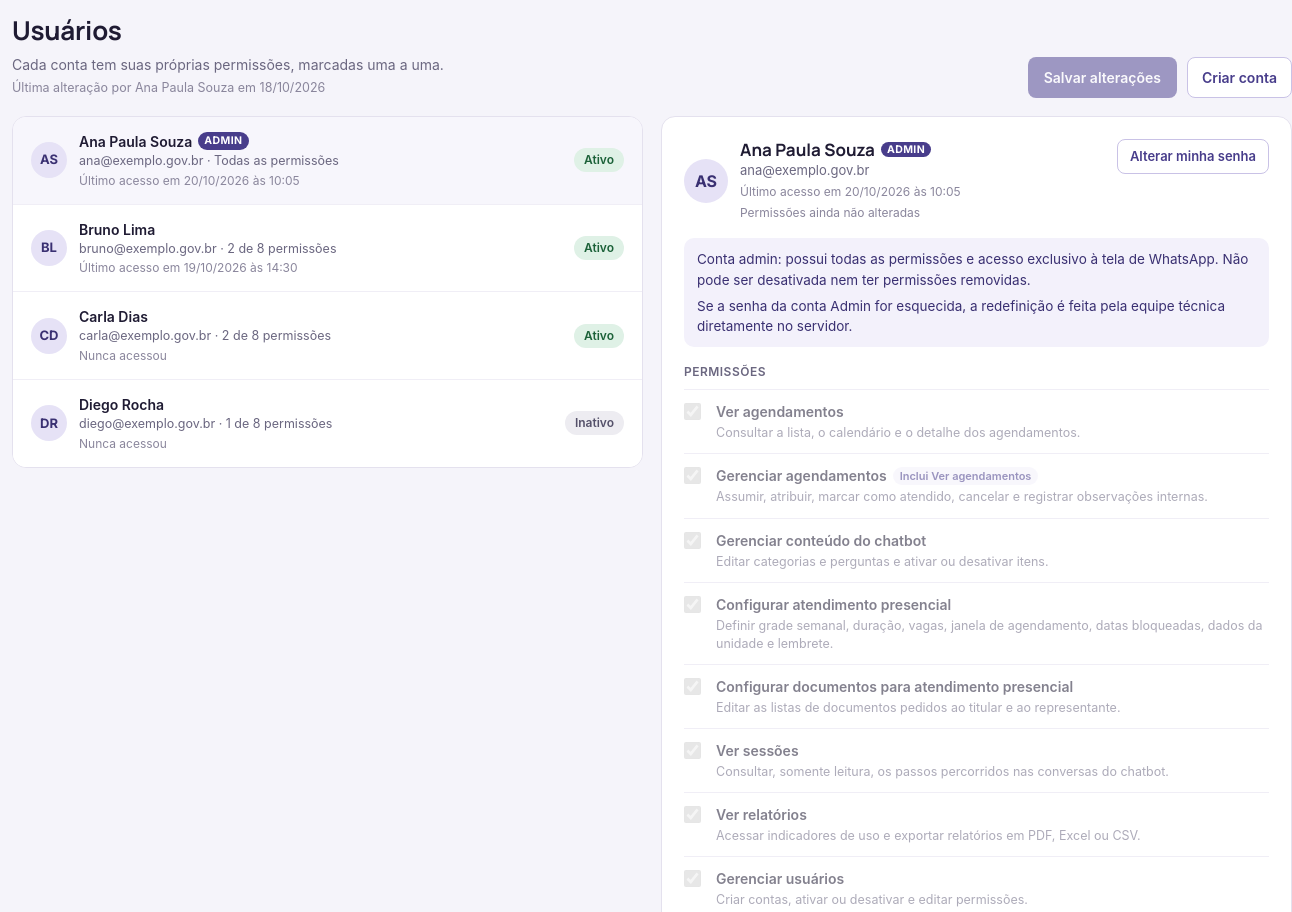
Test case: UsersPage salvar em lote › lista conceder, remover, desativar e reativar na barra
Expected: the list named "Contas" is shown, [12,116,643,468]
Step 1. Click the button "Carla Dias" → click(328, 336), box [13,292,642,380]
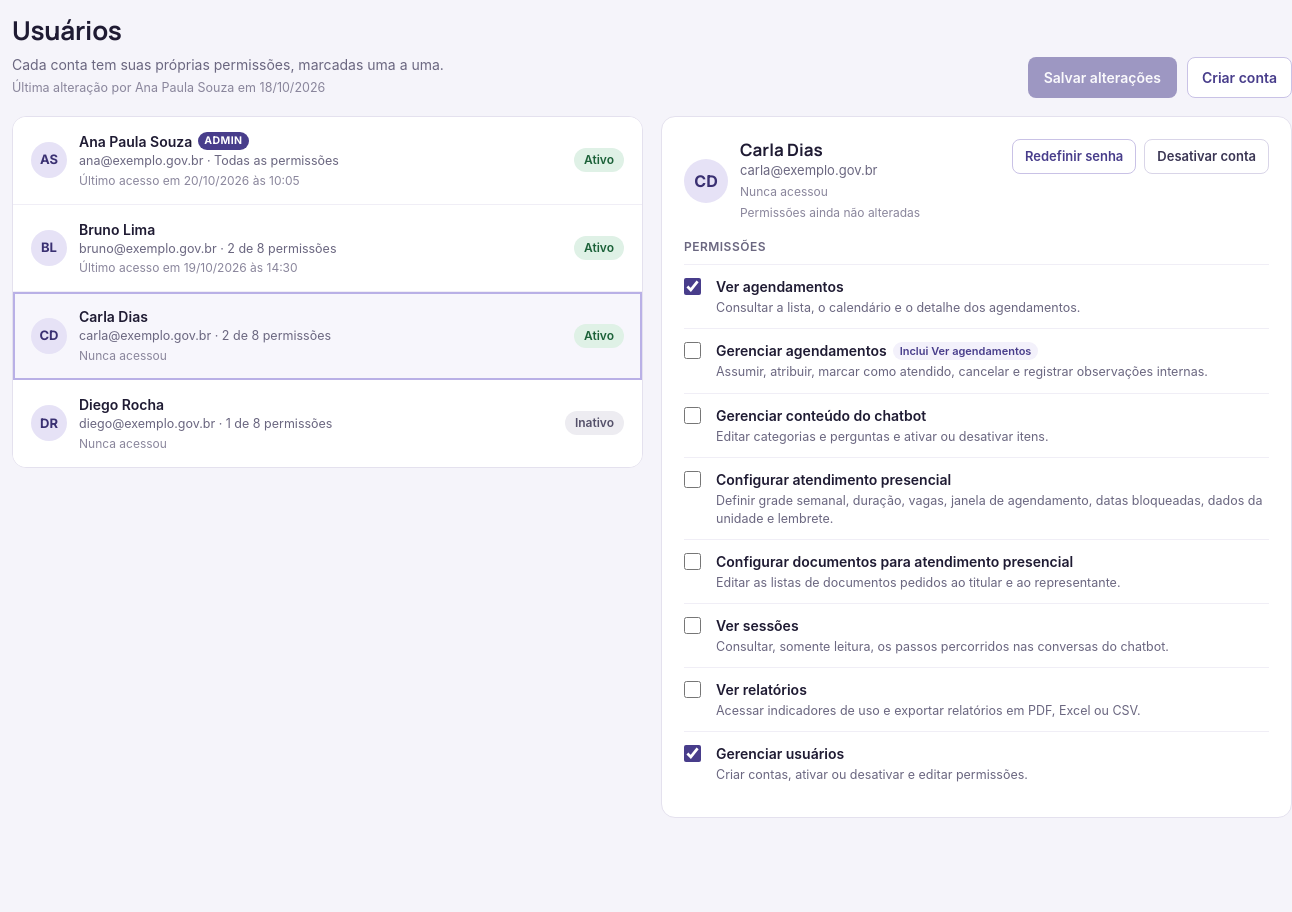
Step 2. Click the 8th checkbox → click(692, 754), box [684,745,701,762]
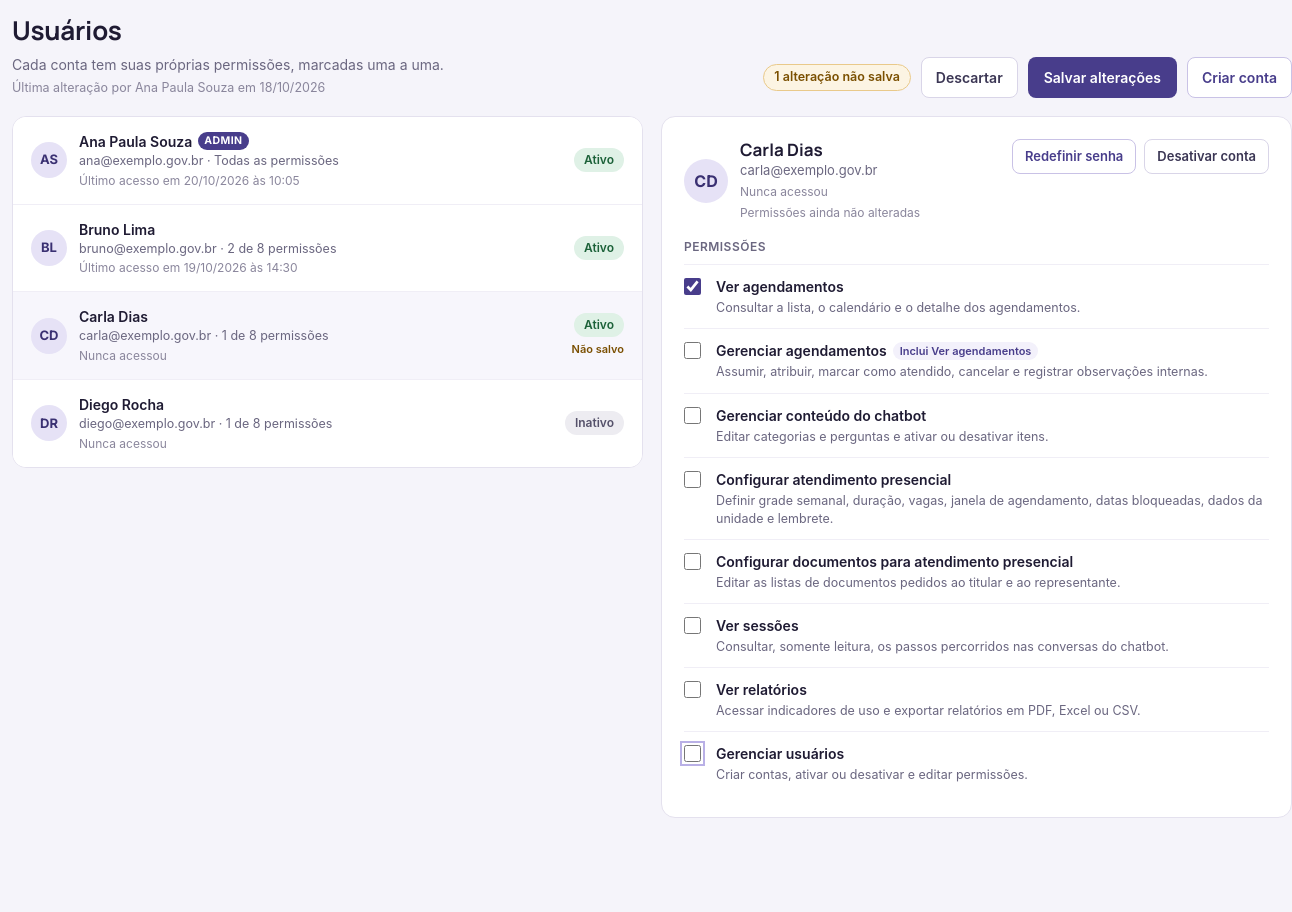
Step 3. Click the button "Diego Rocha" → click(328, 423), box [13,380,642,467]
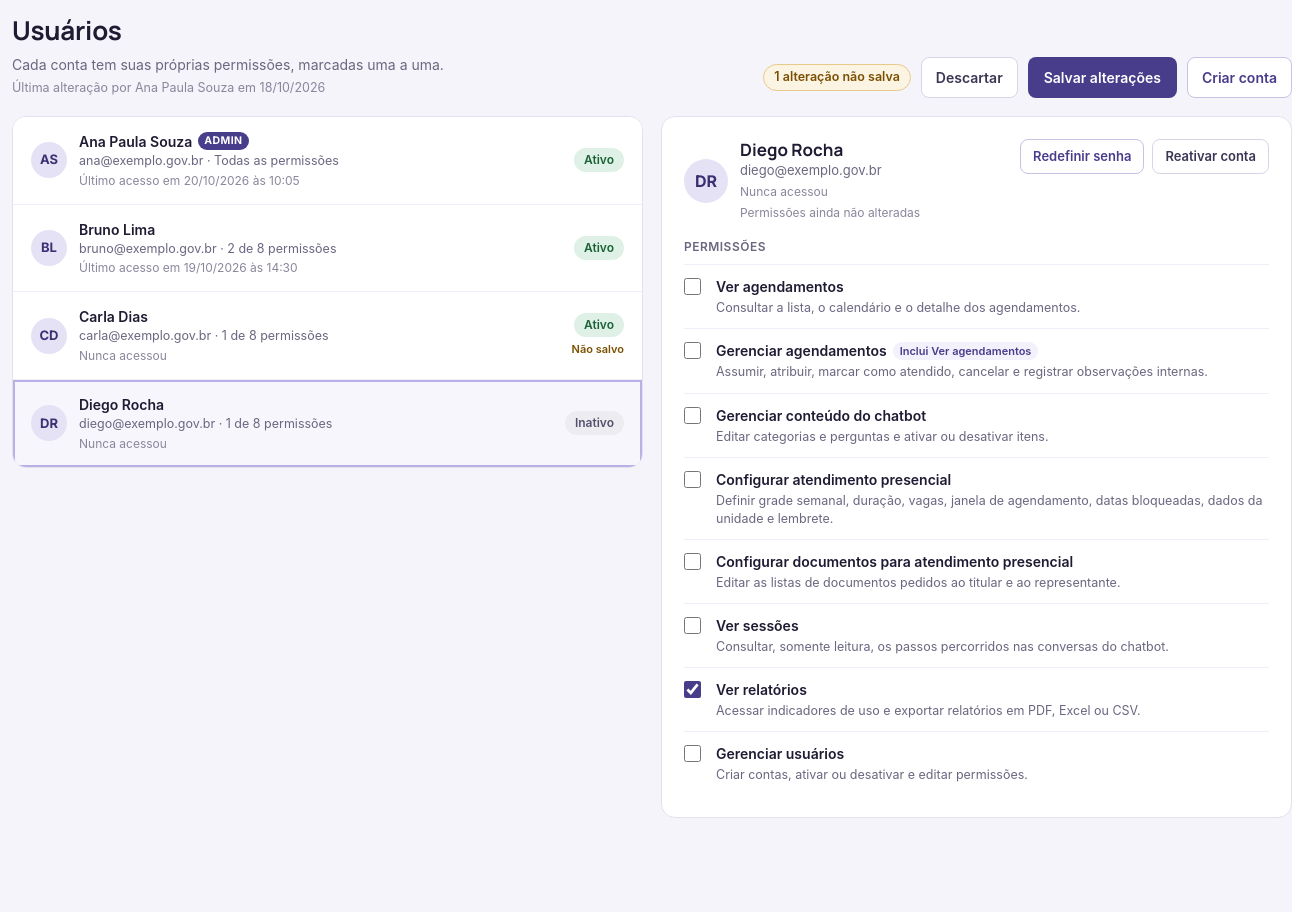
Step 4. Click the button "Reativar conta" → click(1211, 157), box [1152,139,1269,174]
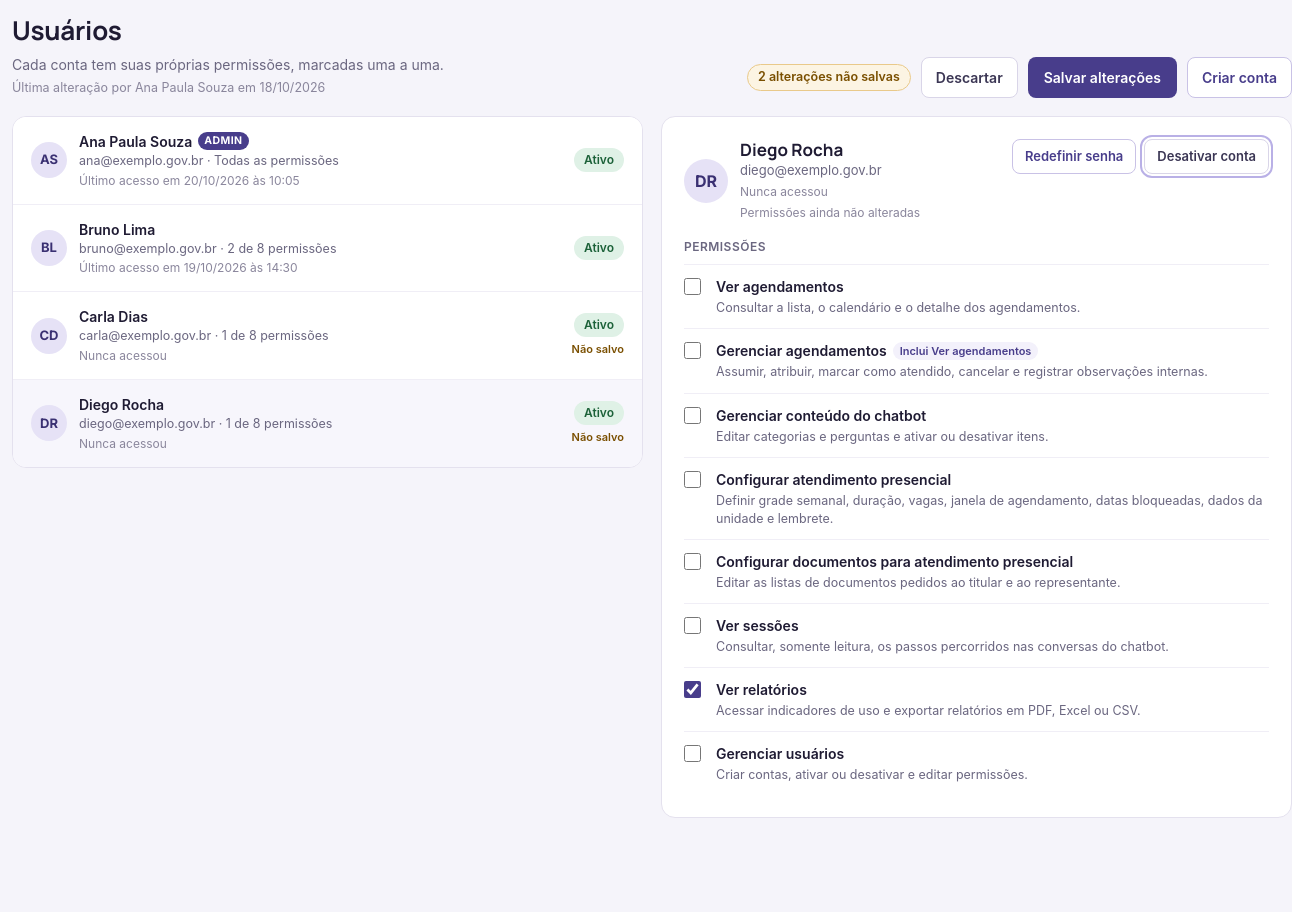
Step 5. Click the 6th checkbox → click(692, 626), box [684,617,701,634]
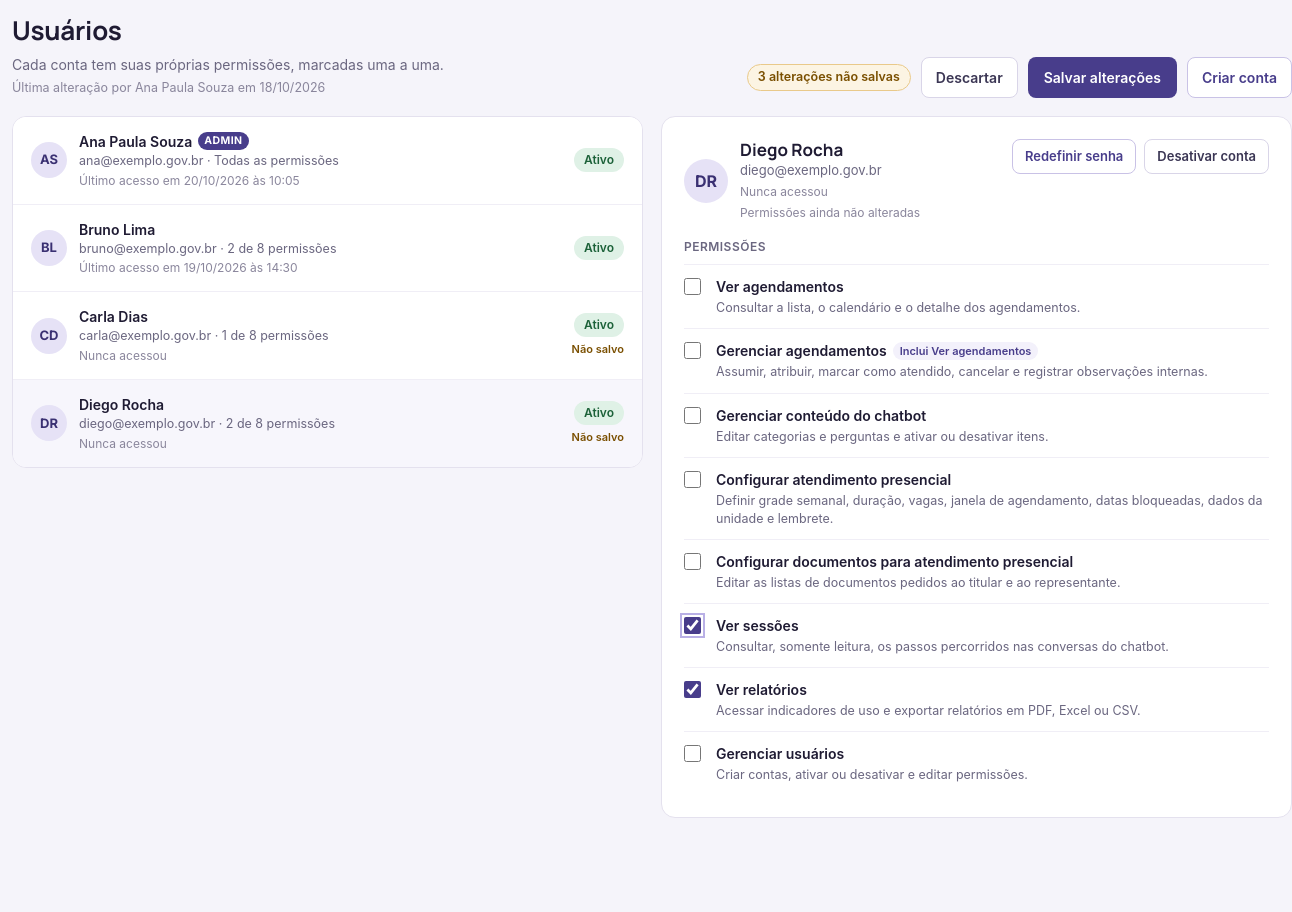
Expected: the button "Diego Rocha" shows "Ativo", [13,380,642,467]
Step 6. Hover over the button "3 alterações não salvas" → (829, 77), box [747,64,911,91]
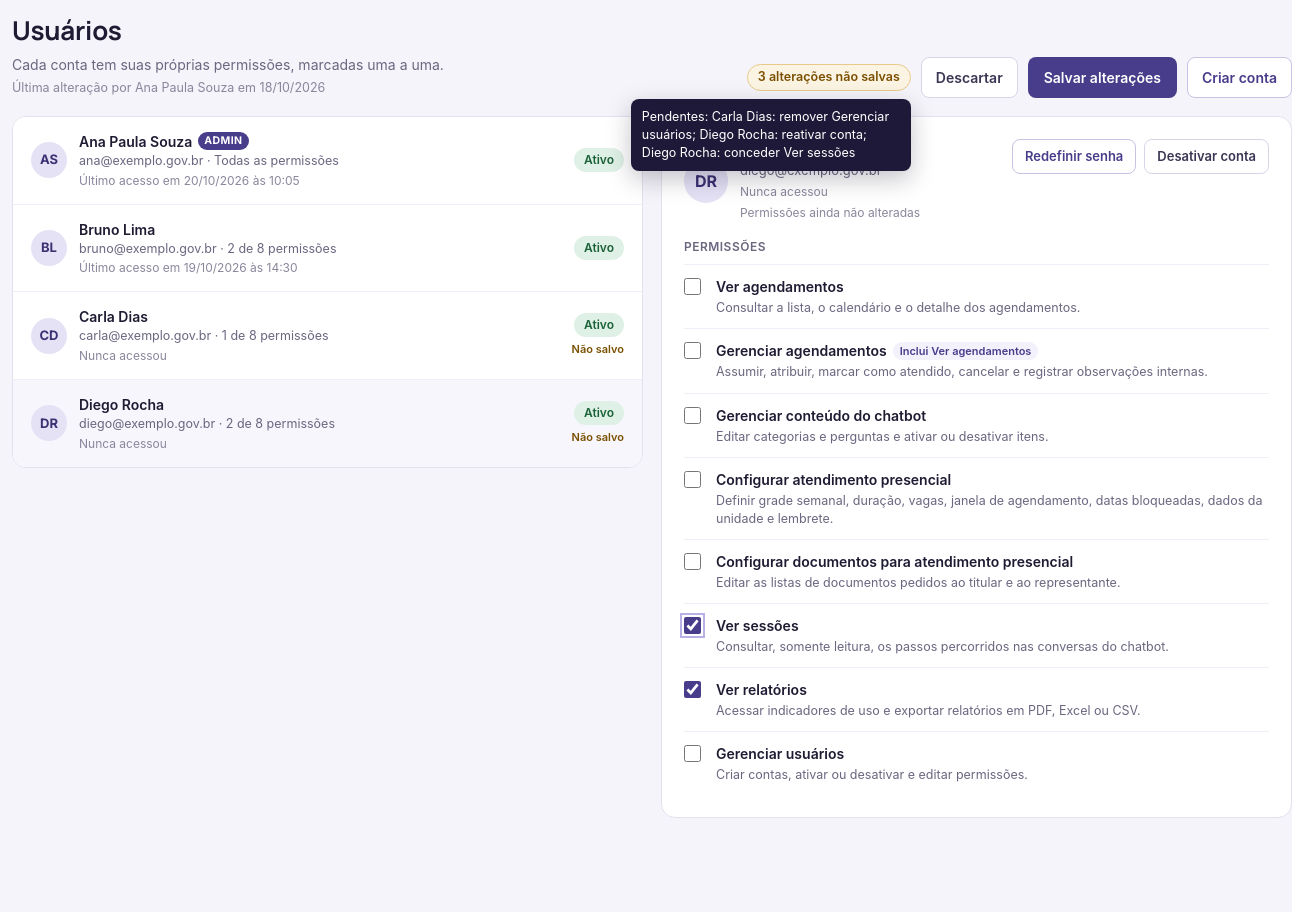
Expected: the button "3 alterações não salvas" is shown, [747,64,911,91]
Expected: the tooltip shows "Pendentes: Carla Dias: remover Gerenciar usuários; Diego Rocha: reativar conta; Diego Rocha: conceder Ver sessões", [642,109,889,160]
